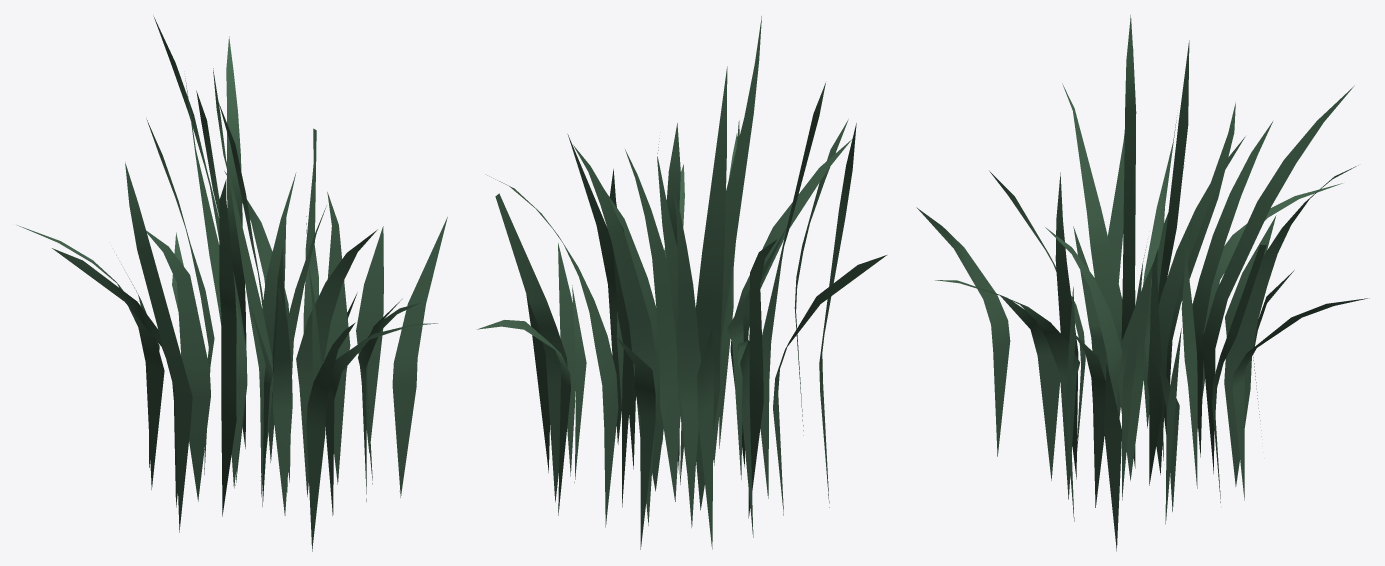
The model's file is trees-grasses-grass-clump_v4.glb.
3 views of the same model, side by side, from view 1: azimuth 30°, elevation 25°; view 2: azimuth 150°, elevation 25°; view 3: azimuth 270°, elevation 25° (orthographic). The views are drawn at different scales.
Parts seen in each view (by area): view 1: Grass Clump_v4; view 2: Grass Clump_v4; view 3: Grass Clump_v4.
Part boxes in pixels (x1,y1,x2,y2): Grass Clump_v4: [17, 16, 447, 551]; Grass Clump_v4: [477, 16, 886, 549]; Grass Clump_v4: [916, 15, 1369, 551].
Bounding box in the file's own units: 0.308 × 0.4 × 0.3642.
